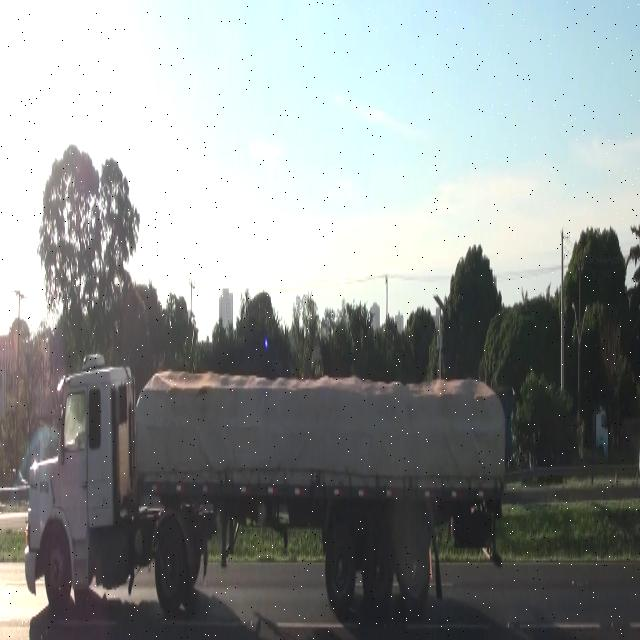-axle: (398, 516, 429, 608), (324, 524, 356, 613), (155, 516, 184, 612), (362, 526, 392, 608), (42, 526, 70, 601)
